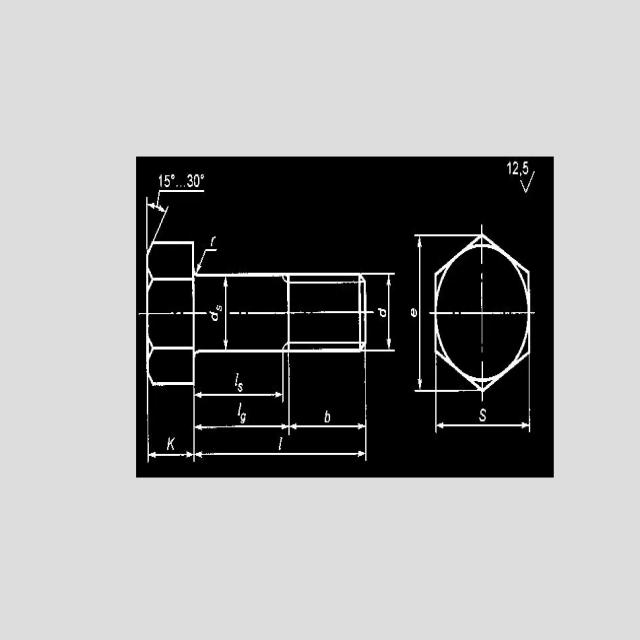marking_line: (192, 386, 368, 466), (196, 356, 370, 436), (192, 387, 292, 436), (145, 387, 198, 464), (434, 395, 532, 433), (145, 189, 206, 242), (414, 233, 434, 393), (367, 272, 396, 353), (193, 388, 285, 402), (196, 246, 218, 273), (223, 278, 230, 349)
numeric: (186, 174, 193, 188), (522, 160, 529, 174), (512, 161, 519, 175), (194, 173, 200, 188), (164, 175, 170, 187), (158, 173, 162, 188), (507, 161, 511, 174)
special_symbol: (520, 171, 535, 194), (200, 174, 205, 180), (171, 173, 175, 180)
